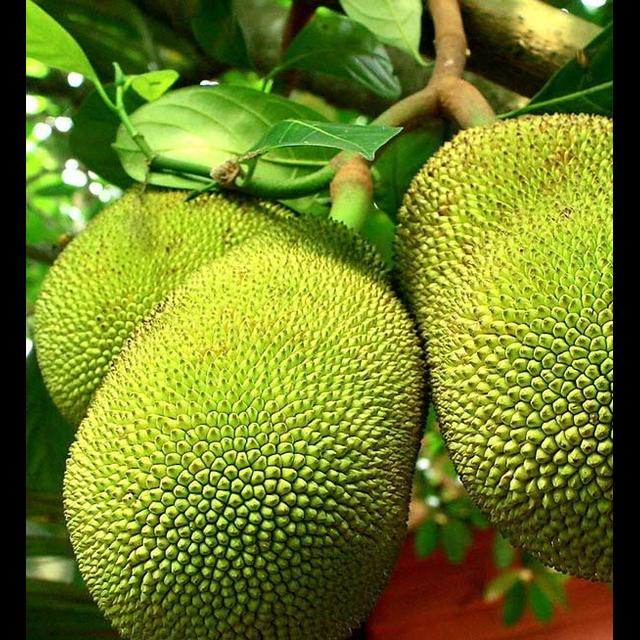mit: (60, 216, 423, 637), (389, 105, 613, 586), (33, 181, 273, 421)
